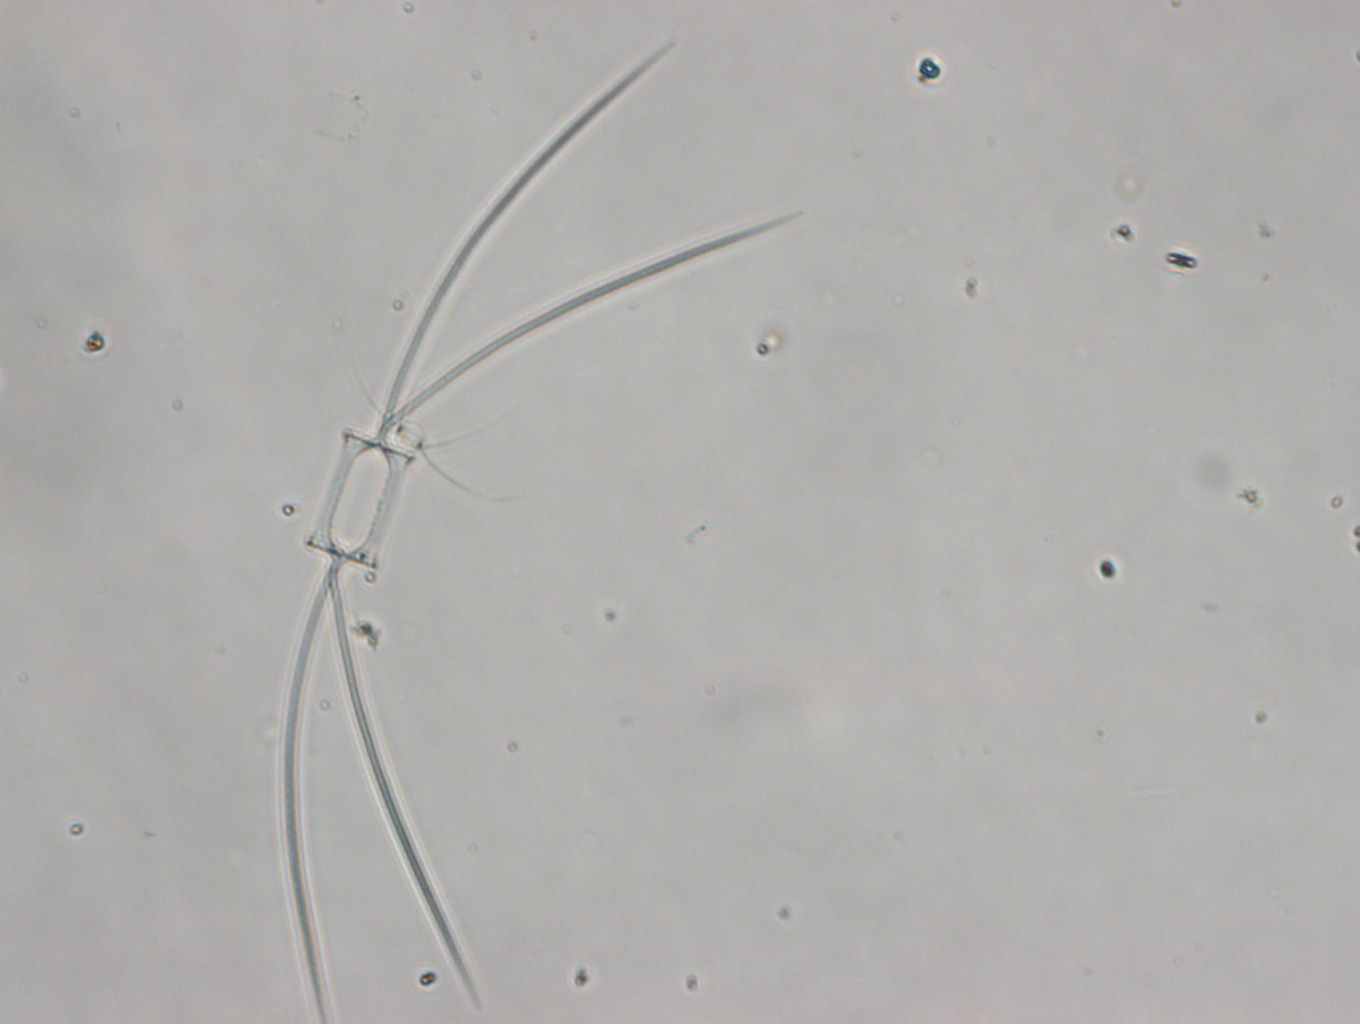chaetoceros: (280, 37, 794, 1021)
